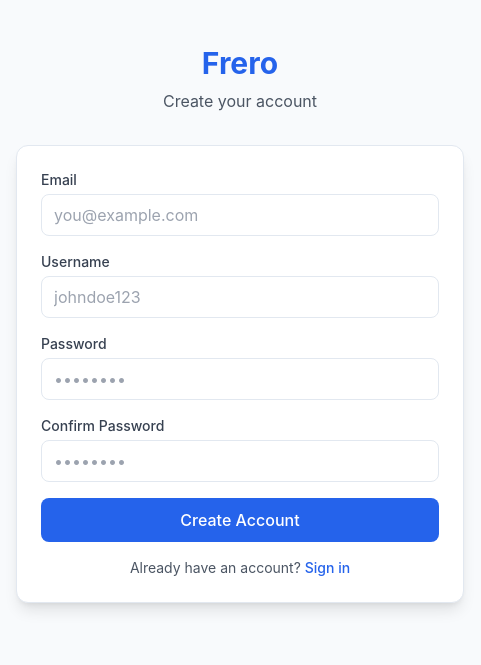
RegisterPage › shows validation errors for empty fields on submit
This screenshot has width=481, height=665.
Click the button "Create Account" at point(240, 520), box [41,498,439,542]
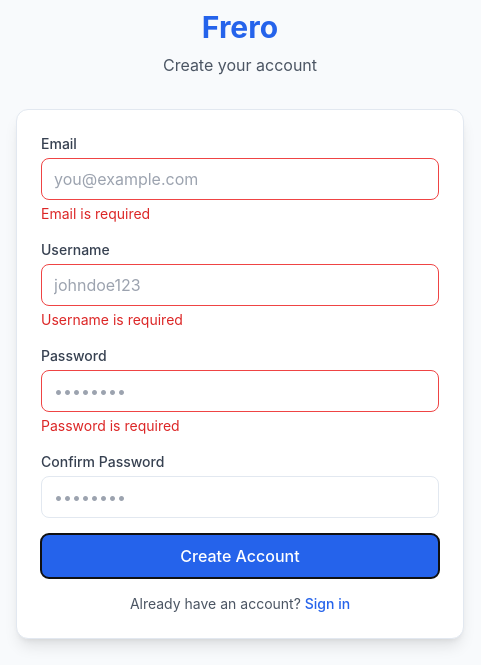
Check: the text "Email is required" is shown, box [41,205,150,222]
Check: the text "Username is required" is shown, box [41,311,183,328]
Check: the text "Password is required" is shown, box [41,417,180,434]
